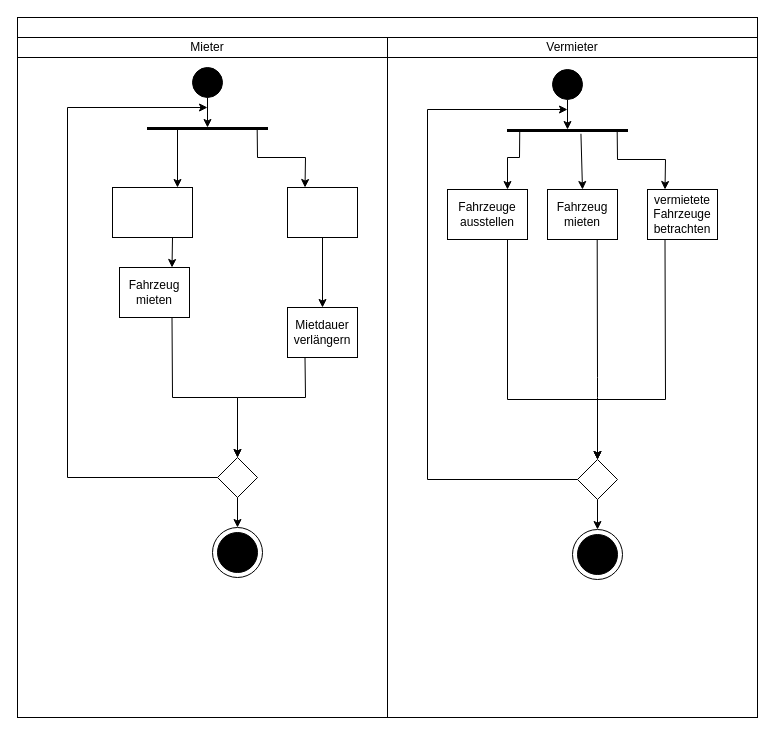
Image size: 775x735. Some labels were removed from this diagram. Each missing label, with the centre of its shape:
Fahrzeuge betrachten: (x=152, y=212)
gemietete Fahrzeuge betrachten: (x=322, y=212)
Übersicht: (x=387, y=27)
